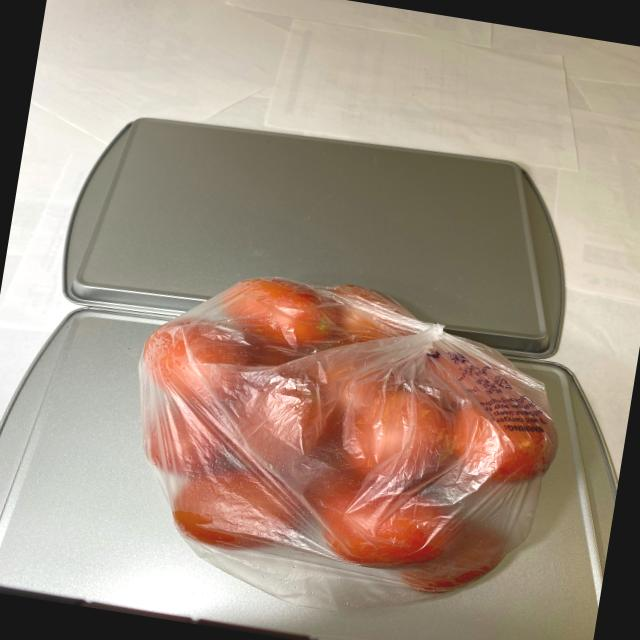tomato: (114, 254, 578, 616)
